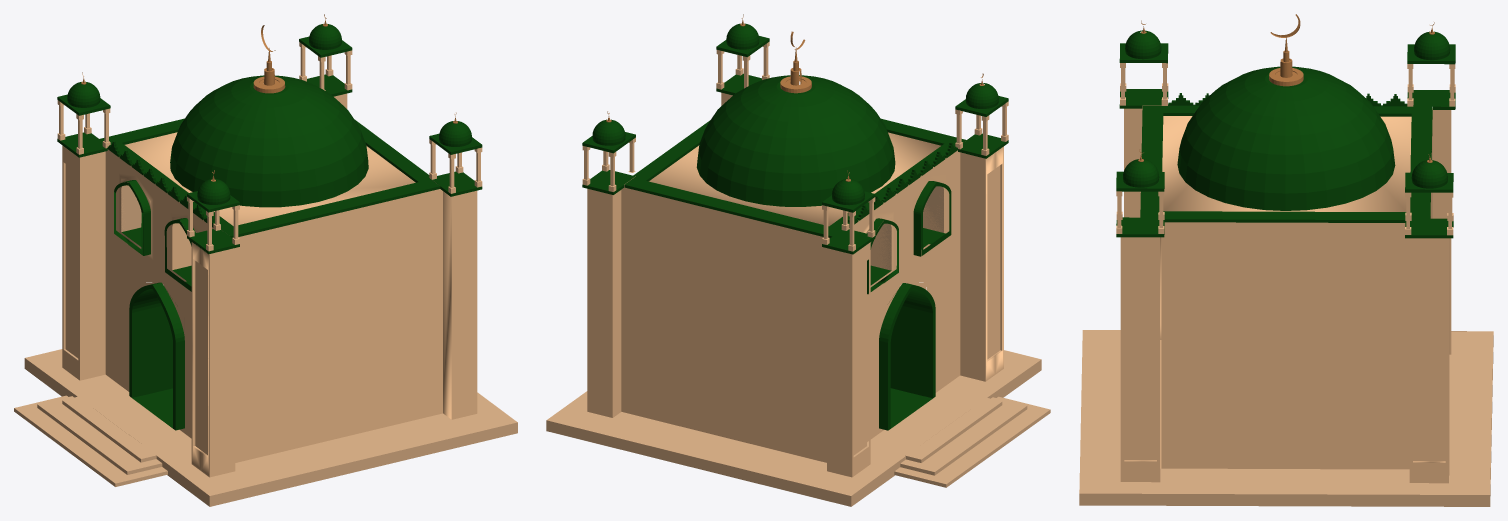
Rendered from mosque.gltf.
3 views of the same model, side by side, from view 1: azimuth 30°, elevation 25°; view 2: azimuth 150°, elevation 25°; view 3: azimuth 270°, elevation 25° (orthographic). The views are drawn at different scales.
Visible parts, largest first — view 1: Mosque; view 2: Mosque; view 3: Mosque.
Boxes of the visible parts, x1,y1,x2,y2 form: Mosque: (14,14,517,506); Mosque: (546,14,1050,506); Mosque: (1079,14,1493,506).
Size of the model in its own units: 1039 by 1027 by 944.
